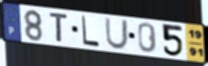0: (137, 22, 157, 54)
5: (160, 23, 186, 58)
8: (23, 8, 44, 42)
L: (81, 14, 101, 48)
T: (48, 12, 70, 44)
U: (104, 17, 129, 51)
